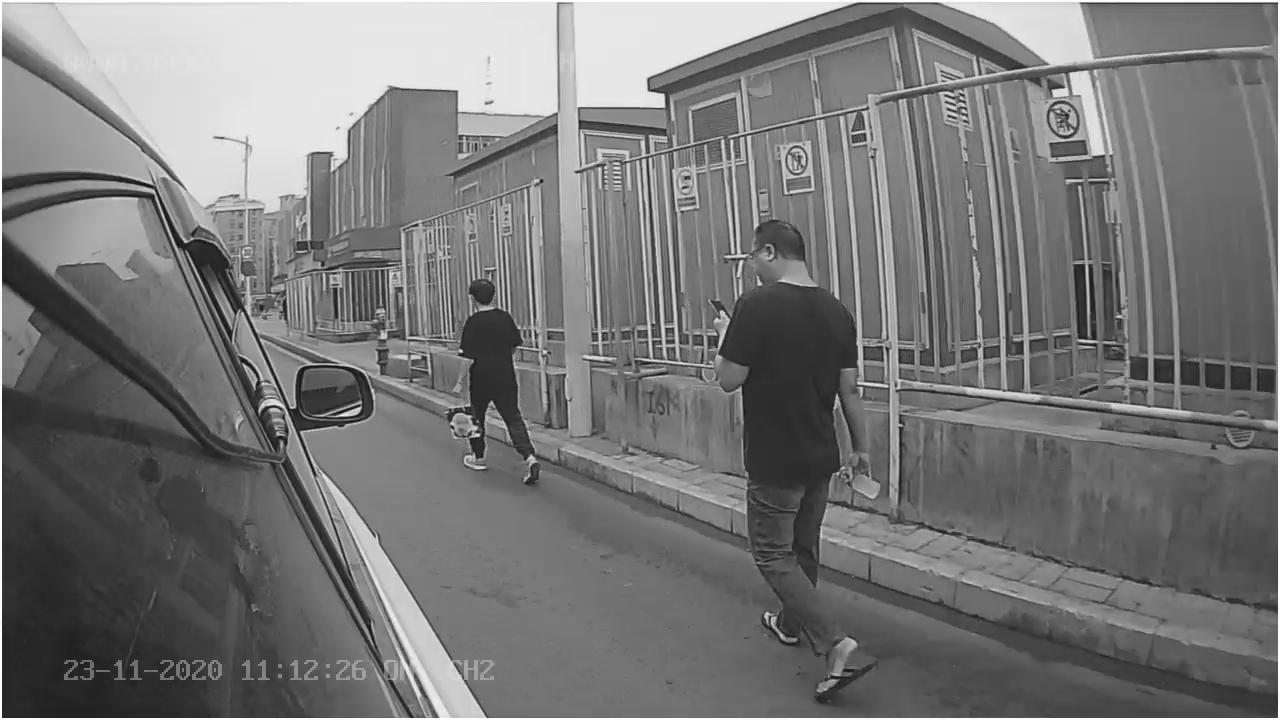person: (702, 219, 890, 696)
